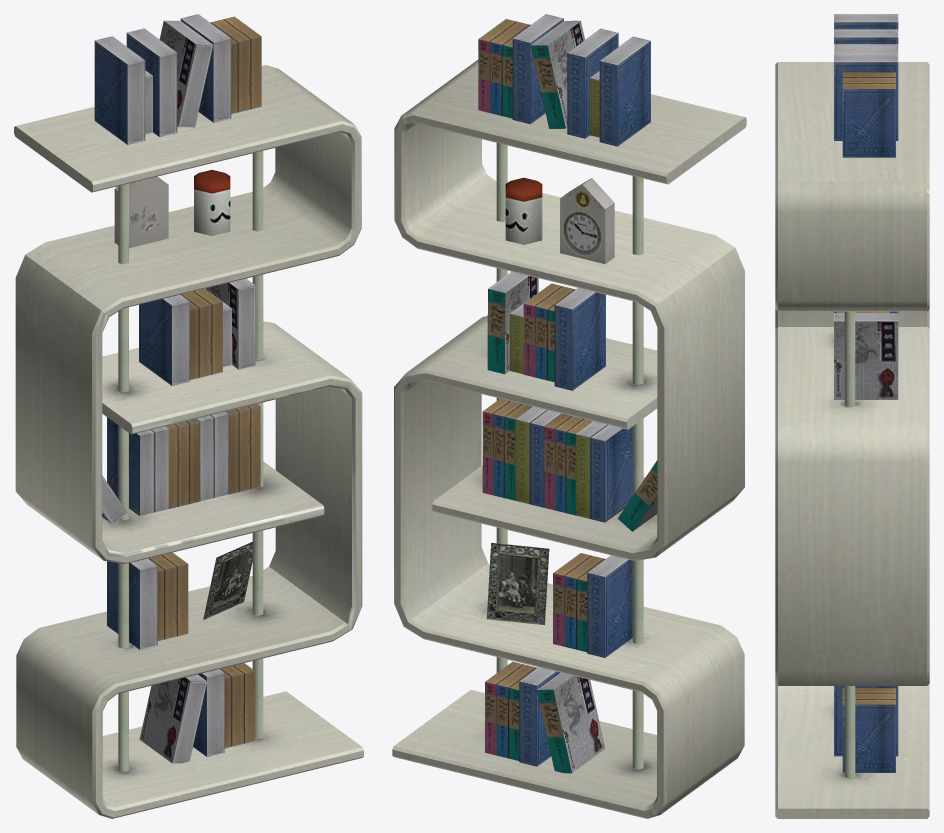
The model's file is furni_0200406.FBX.
3 renders of one model, left to right at view 1: azimuth 30°, elevation 25°; view 2: azimuth 150°, elevation 25°; view 3: azimuth 270°, elevation 25°, orthographic. The views are drawn at different scales.
Visible parts, largest first — view 1: furni_0200406; view 2: furni_0200406; view 3: furni_0200406.
Part boxes in pixels (x1,y1,x2,y2): furni_0200406: (14, 14, 363, 818); furni_0200406: (392, 14, 746, 818); furni_0200406: (775, 14, 929, 818).
Size of the model in its own units: 79.35 by 203 by 40.
